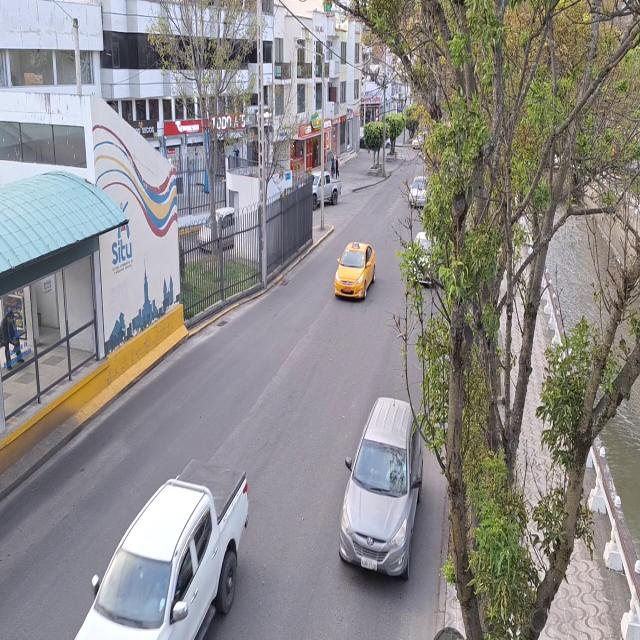CMT: (74, 460, 245, 640)
SED: (336, 244, 376, 313)
SUV: (343, 394, 420, 585)
